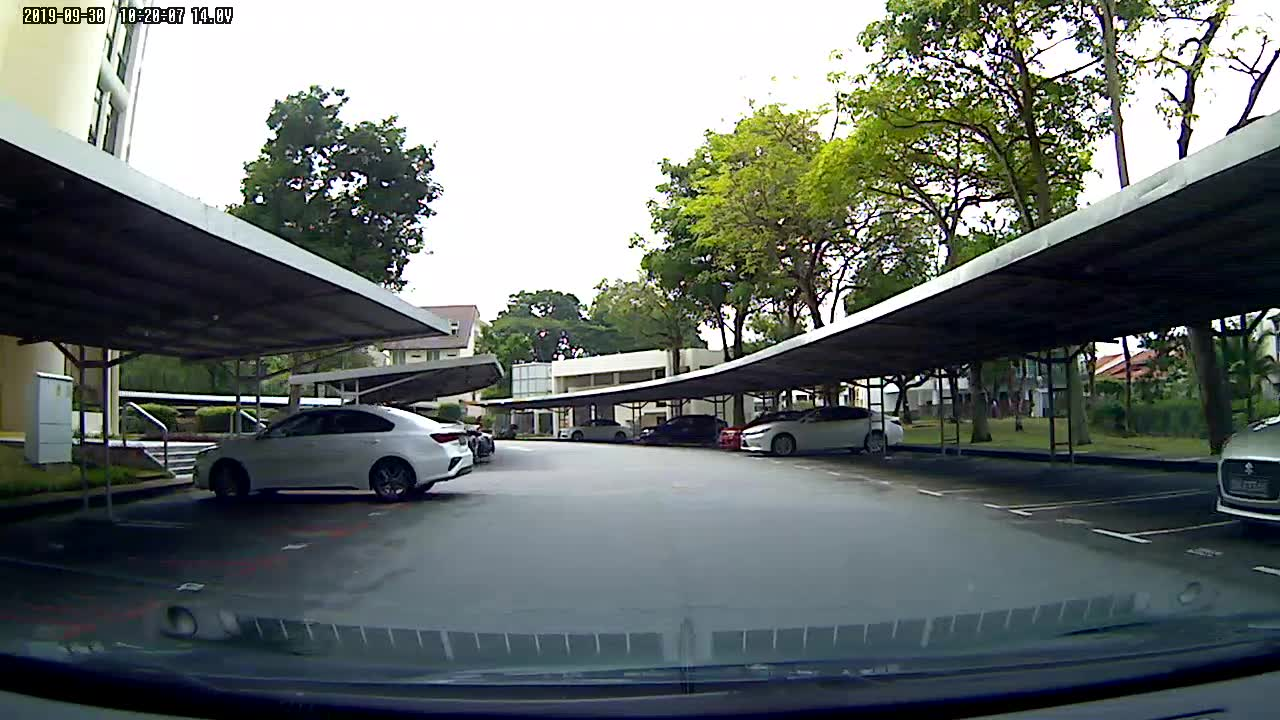car: (182, 399, 479, 503), (1211, 395, 1280, 520), (746, 407, 904, 460), (639, 413, 725, 451), (556, 418, 634, 446)
